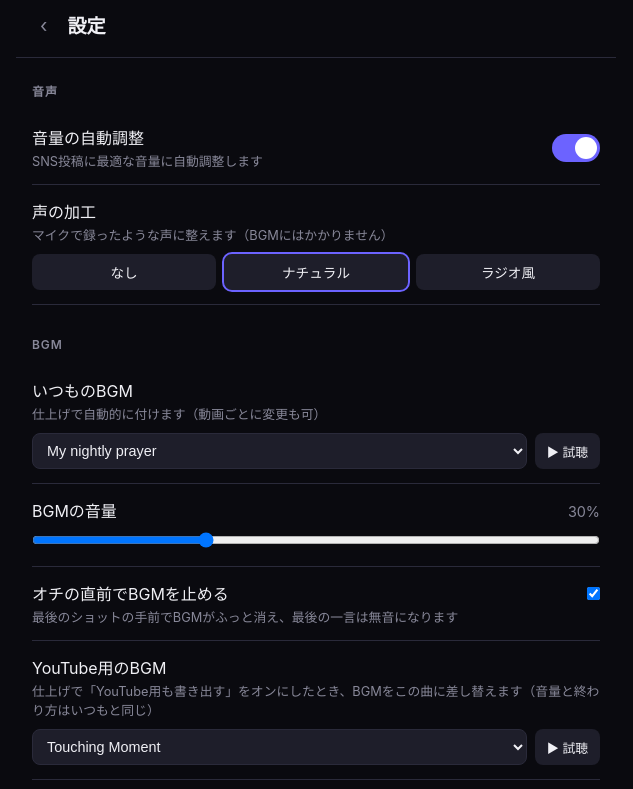
Test: SettingsPage BGM › saves なし as no BGM, and disables the volume and preview
This screenshot has width=633, height=789.
Select "なし" in the dropdown named "いつものBGM": {"x": 280, "y": 451} x1=32 y1=433 x2=527 y2=469
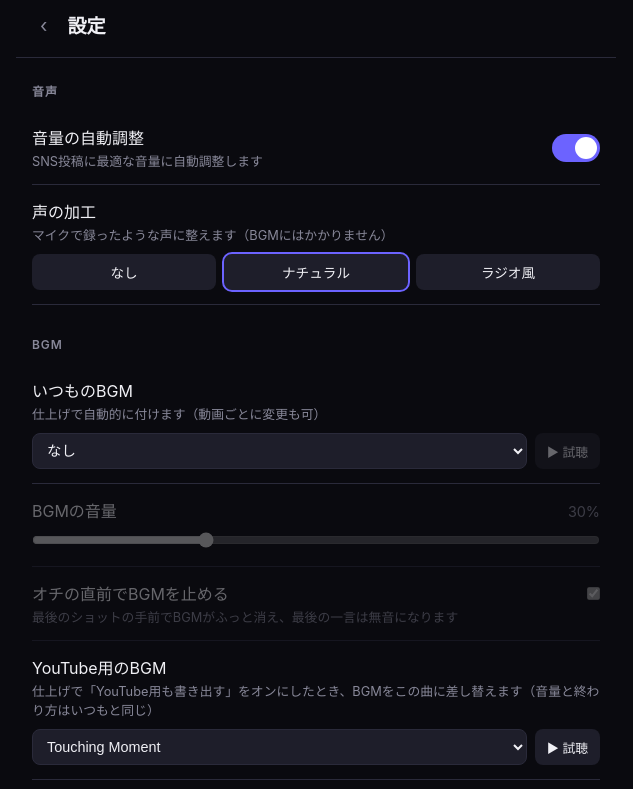
Now the slider named "BGMの音量" is disabled, box x1=32 y1=532 x2=600 y2=548
Now the button "▶ 試聴" below "仕上げで自動的に付けます（動画ごとに変更も可）" is disabled, box x1=535 y1=433 x2=600 y2=469
